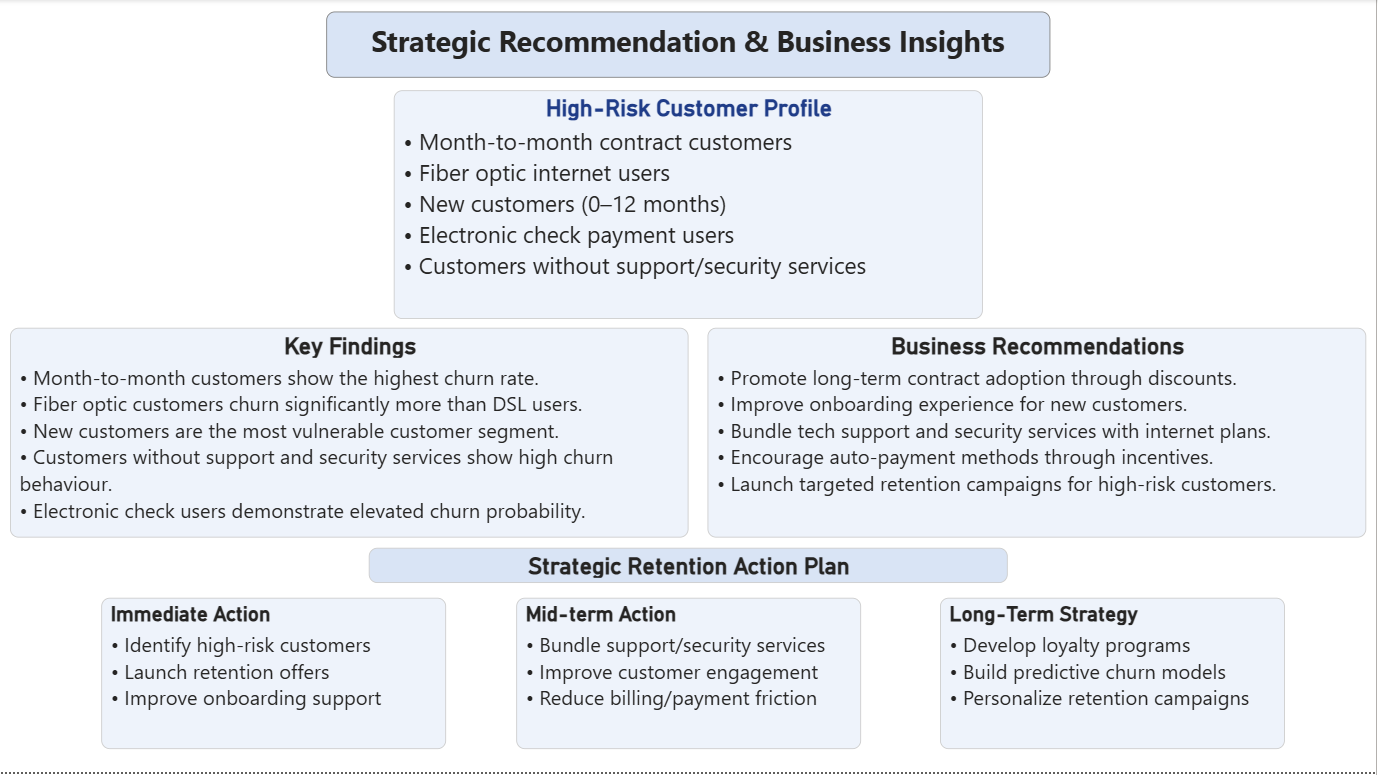

Layout of this report page (visuals, bound fields, positions):
{"tool":"powerbi","page":{"name":"Strategic Recommendation","canvas":[1280,720],"ordinal":2},"visuals":[{"type":"textbox","box":[303.5,11.6,673.3,61.6],"z":0},{"type":"textbox","title":"High-Risk Customer Profile","box":[366.3,84.9,547.7,212.8],"z":1000},{"type":"textbox","title":"Key Findings","box":[9.3,305.8,631.4,195.3],"z":2000},{"type":"textbox","title":"Business Recommendations","box":[658.1,305.8,612.8,195.3],"z":3000},{"type":"textbox","title":"Strategic Retention Action Plan","box":[343,510.5,594.2,32.6],"z":4000},{"type":"textbox","title":"Immediate Action","box":[94.2,557,320.9,140.7],"z":5000},{"type":"textbox","title":"Mid-term Action","box":[480.2,557,320.9,140.7],"z":6000},{"type":"textbox","title":"Long-Term Strategy","box":[874.4,557,320.9,140.7],"z":7000}]}

Visuals, with their boxes in screenshot pixels (x1, y1, x2, y2), scaled from the page's 1280x720 canvas onto the 1378x775 screenshot:
textbox: detection(327, 12, 1052, 79)
"High-Risk Customer Profile" textbox: detection(394, 91, 984, 320)
"Key Findings" textbox: detection(10, 329, 690, 539)
"Business Recommendations" textbox: detection(708, 329, 1368, 539)
"Strategic Retention Action Plan" textbox: detection(369, 549, 1009, 585)
"Immediate Action" textbox: detection(101, 600, 447, 751)
"Mid-term Action" textbox: detection(517, 600, 862, 751)
"Long-Term Strategy" textbox: detection(941, 600, 1287, 751)
